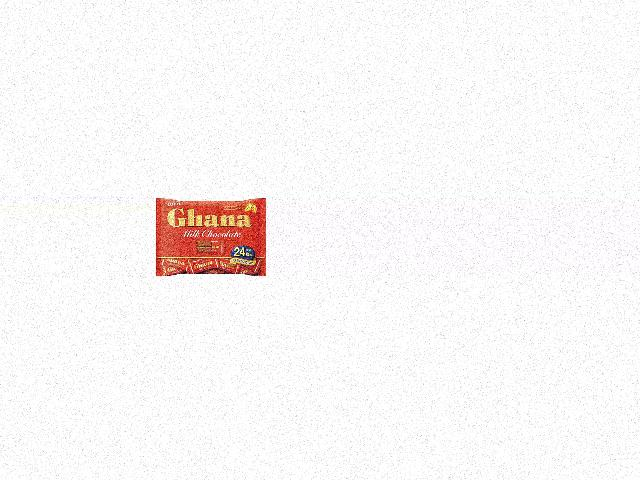chocolate: (157, 199, 267, 278)
